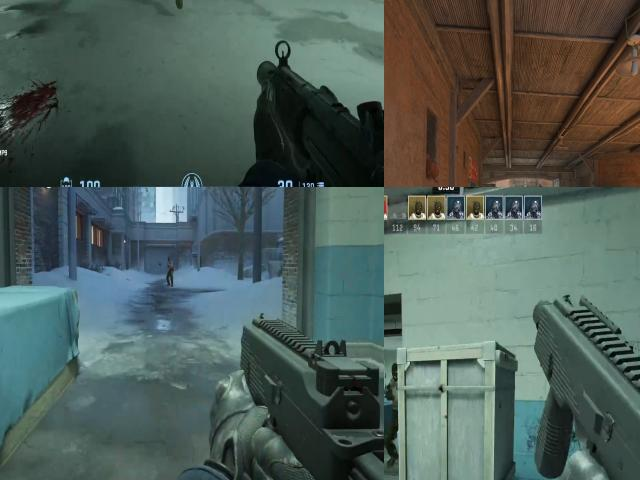CT: (539, 183, 543, 187)
CT-Head: (540, 183, 541, 186)
T: (384, 362, 398, 440), (166, 258, 175, 277)
T-Head: (385, 363, 400, 384), (168, 259, 173, 266)
